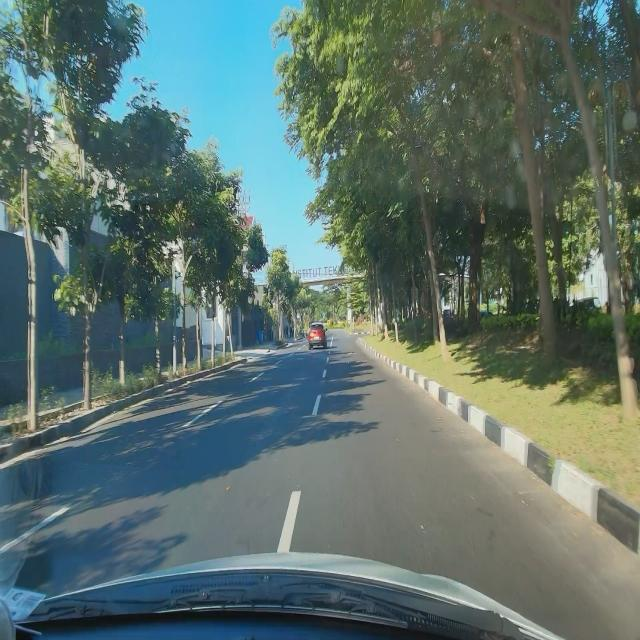car: (308, 323, 327, 350)
